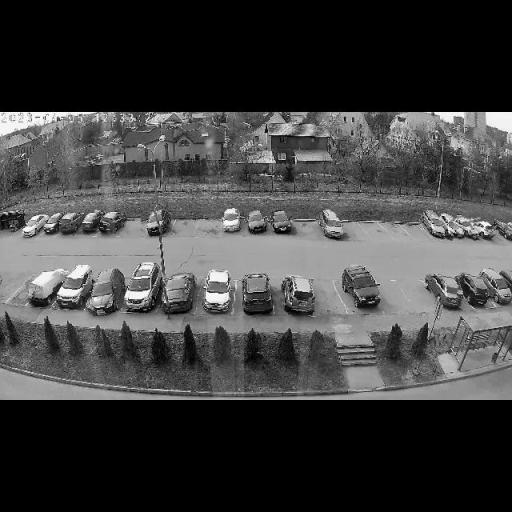busy: (338, 262, 388, 309), (120, 262, 164, 310), (280, 274, 324, 318), (86, 268, 126, 316), (198, 270, 239, 314), (158, 273, 200, 314), (52, 267, 92, 309), (240, 272, 276, 316), (425, 274, 469, 308), (22, 272, 62, 309), (456, 274, 494, 307), (418, 210, 458, 240), (314, 210, 350, 240), (482, 269, 512, 305), (218, 206, 248, 236), (92, 210, 126, 236), (142, 210, 172, 238), (454, 213, 484, 238), (245, 209, 272, 236), (470, 216, 500, 240), (268, 210, 295, 235), (56, 213, 83, 235), (24, 214, 46, 237), (496, 220, 512, 240)
free: (308, 276, 340, 310), (402, 278, 432, 309), (376, 276, 400, 310), (174, 220, 196, 238), (17, 284, 33, 306), (297, 222, 319, 237), (342, 220, 360, 238), (384, 222, 404, 238), (198, 220, 220, 234), (124, 220, 143, 236), (2, 278, 16, 298), (365, 223, 382, 236), (404, 226, 423, 234)
